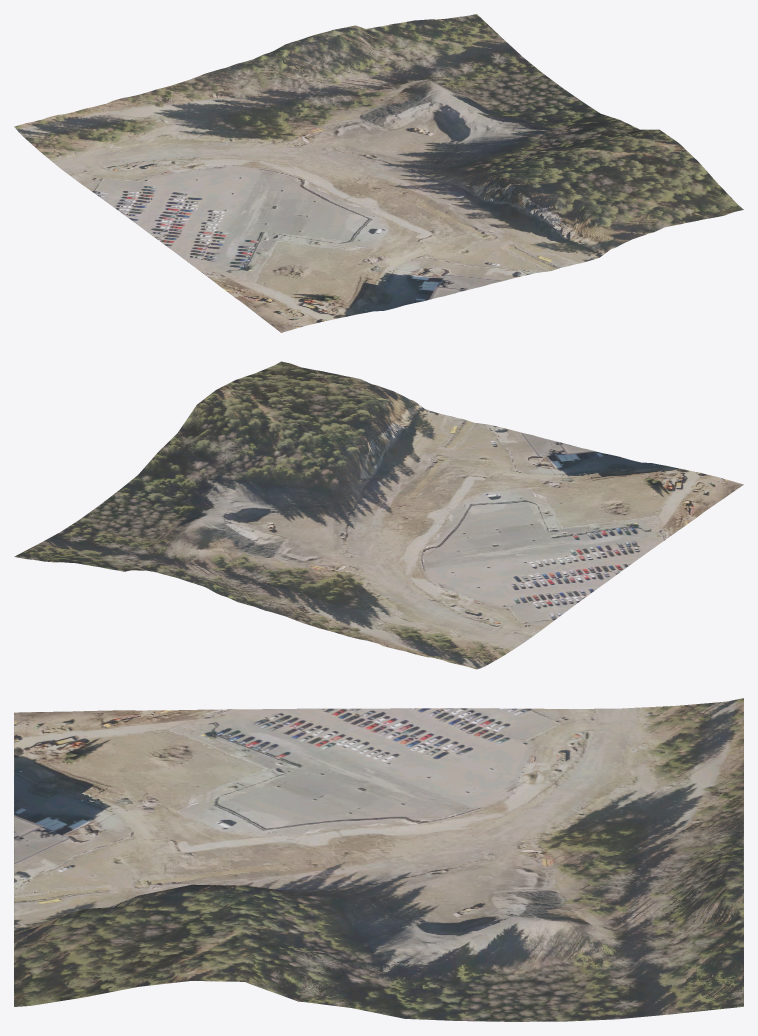
The model's file is CM_Terrain_24490458_6822046.fbx.
The picture shows the model from 3 angles, top to bottom: view 1: azimuth 30°, elevation 25°; view 2: azimuth 150°, elevation 25°; view 3: azimuth 270°, elevation 25°; orthographic projection. The views are drawn at different scales.
Parts seen in each view (by area): view 1: CM_Terrain_24490458_6822046_LOD0; view 2: CM_Terrain_24490458_6822046_LOD0; view 3: CM_Terrain_24490458_6822046_LOD0.
Boxes of the visible parts, x1,y1,x2,y2 form: CM_Terrain_24490458_6822046_LOD0: (14,14,743,332); CM_Terrain_24490458_6822046_LOD0: (14,361,743,669); CM_Terrain_24490458_6822046_LOD0: (14,698,743,1021).
Size of what is drawn, in the model's own units: 205 by 14.27 by 205.
